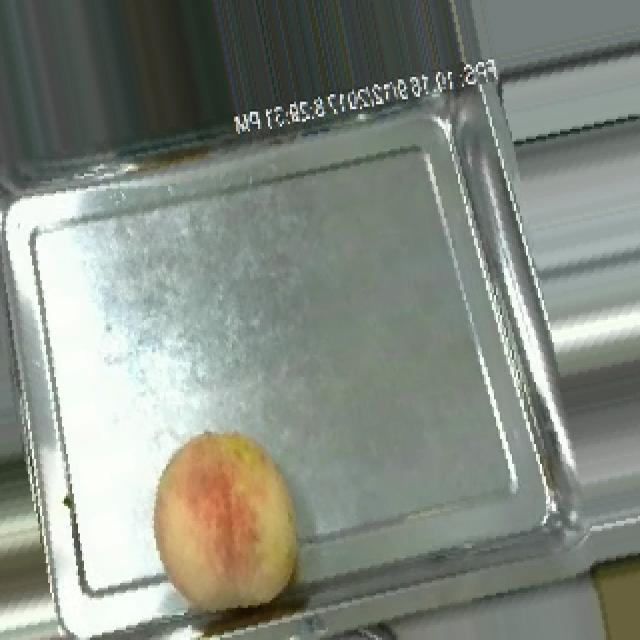Fruit: (130, 404, 326, 635), (568, 536, 640, 640)
